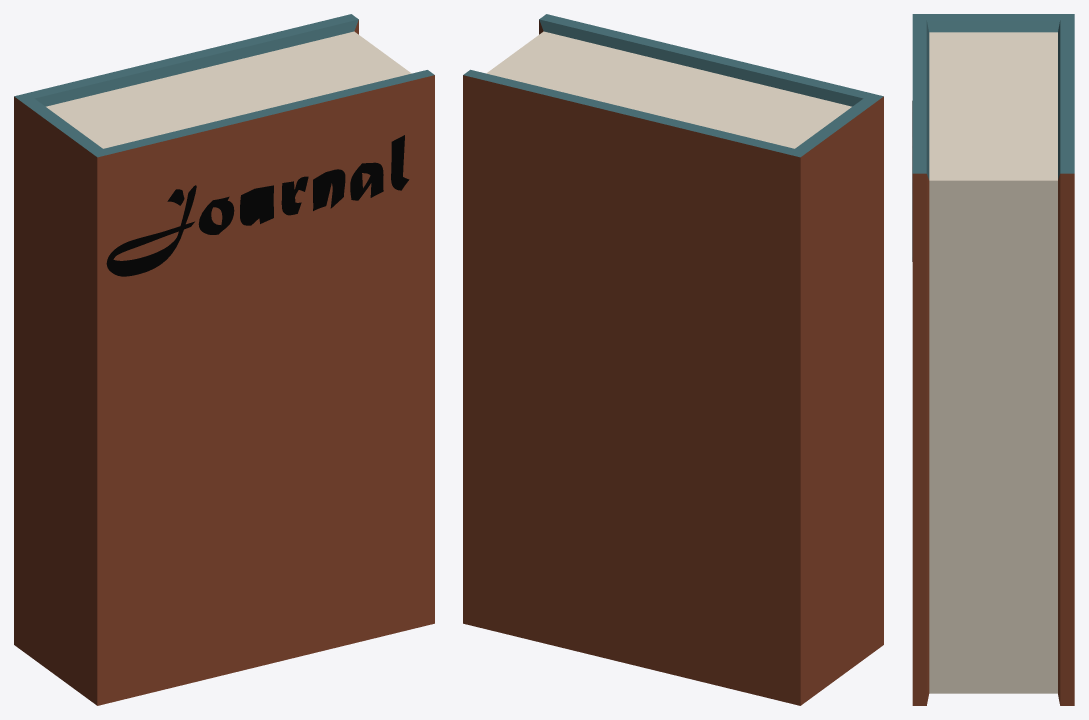
File: Journal3.fbx
3 views of the same model, side by side, from view 1: azimuth 30°, elevation 25°; view 2: azimuth 150°, elevation 25°; view 3: azimuth 270°, elevation 25° (orthographic). The views are drawn at different scales.
Parts seen in each view (by area): view 1: Journal3; view 2: Journal3; view 3: Journal3.
Part boxes in pixels (x1,y1,x2,y2): Journal3: (14,14,434,705); Journal3: (463,14,883,705); Journal3: (912,14,1074,705).
Bounding box in the file's own units: 18.28 × 28.4 × 7.84.
